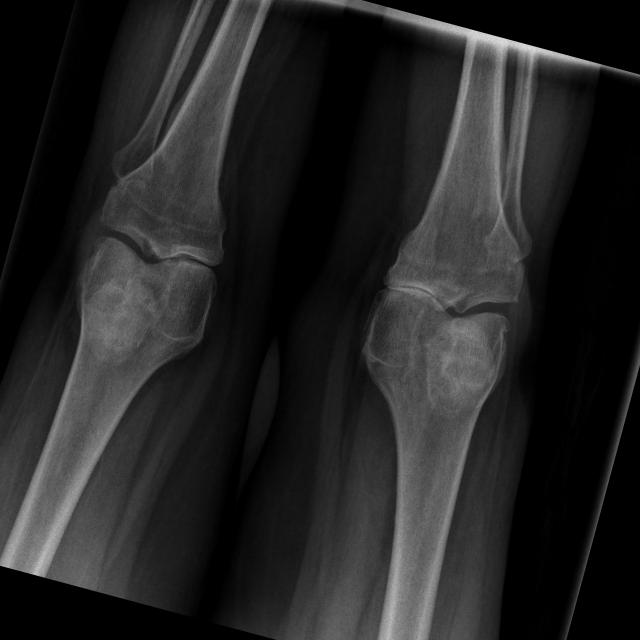Knee: (362, 214, 540, 377), (72, 176, 241, 336)
